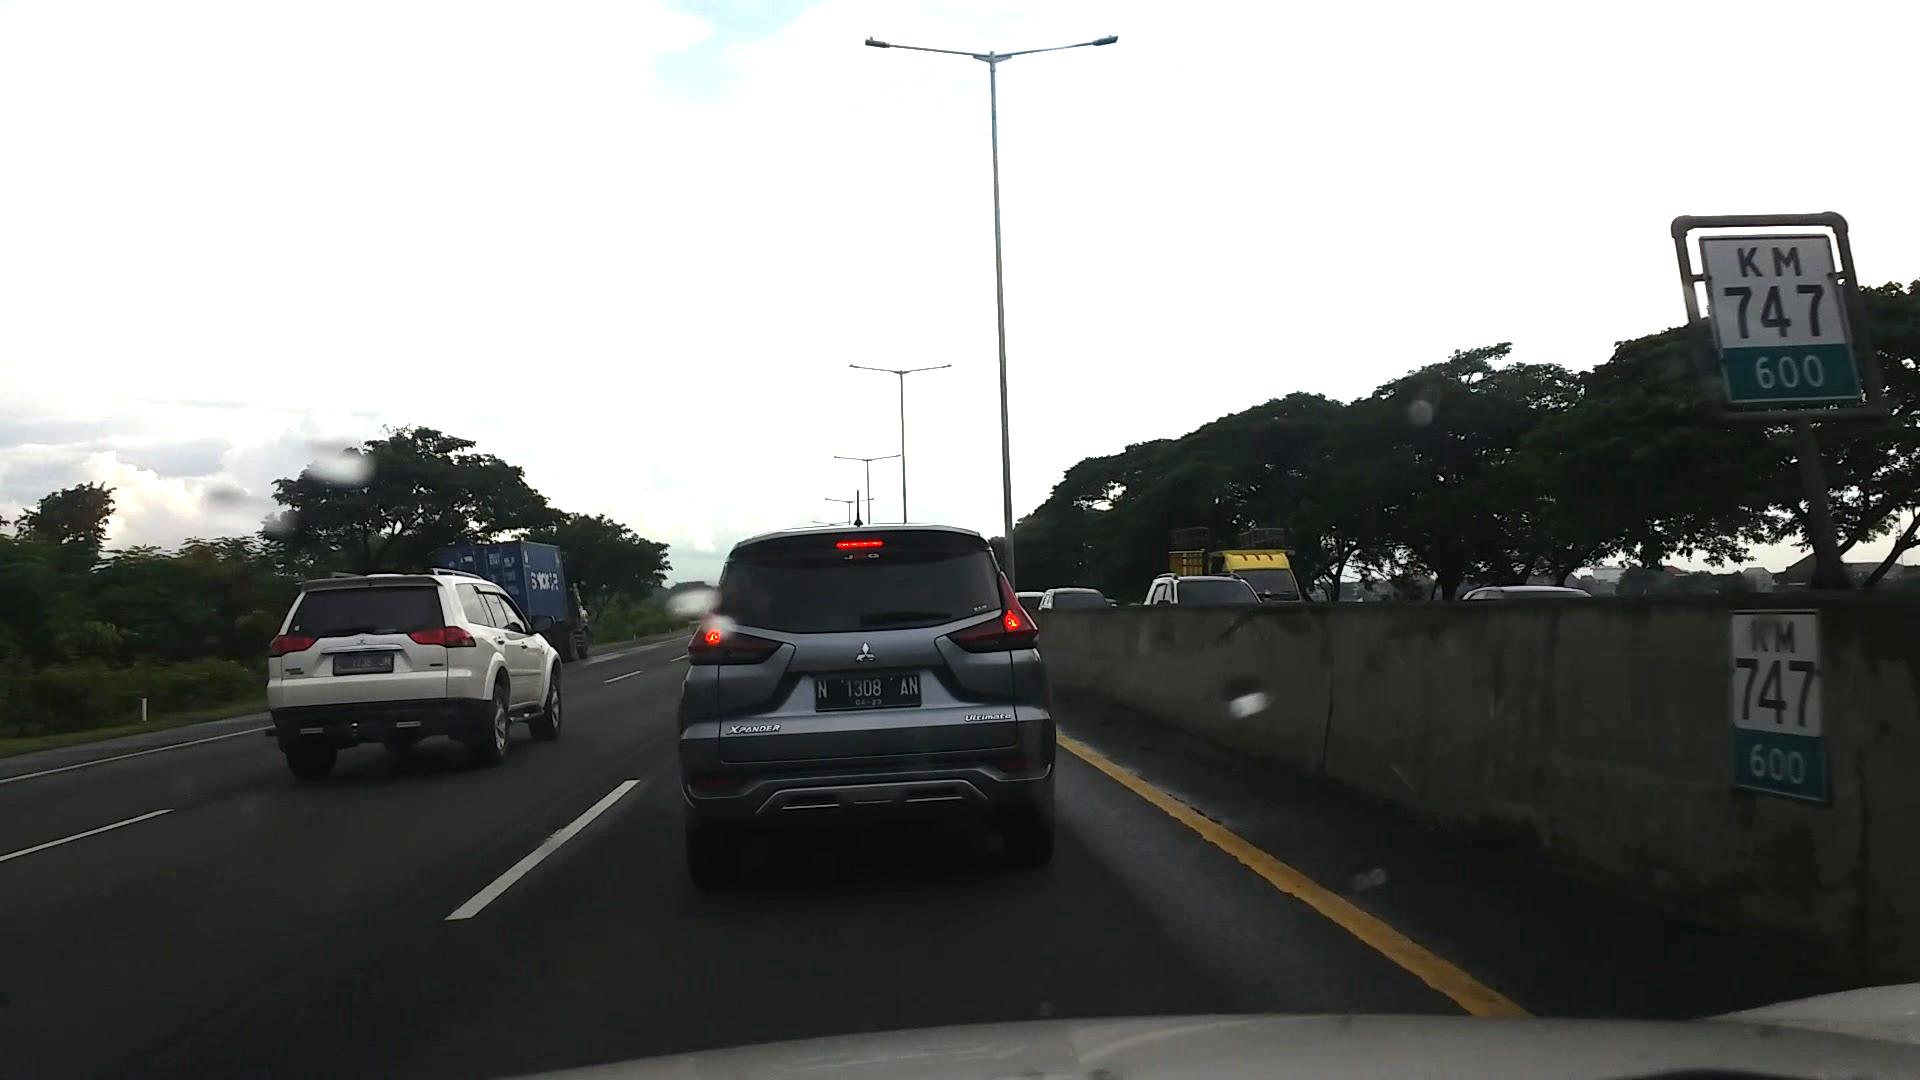plate_positive: (814, 675, 920, 709)
